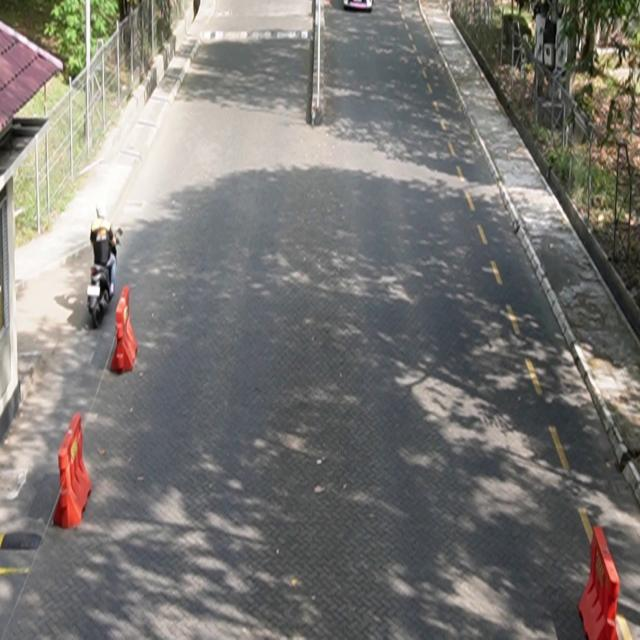car: (343, 1, 374, 12)
